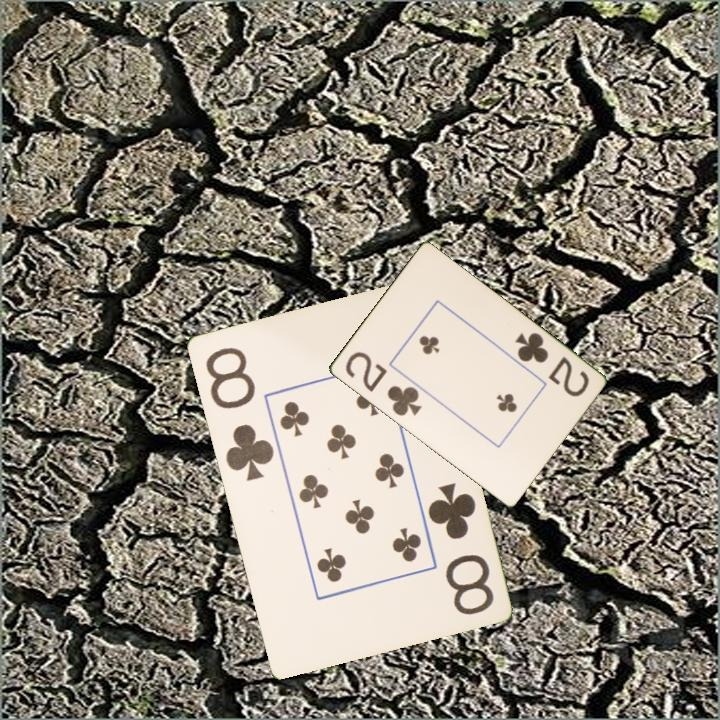2c: (341, 348, 424, 419), (511, 329, 592, 400)
8c: (201, 343, 277, 484), (423, 479, 497, 618)
